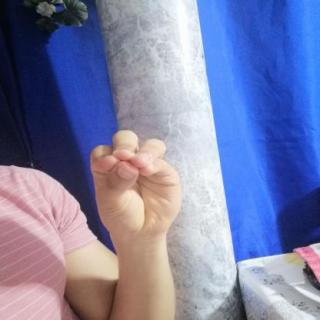HA: (76, 123, 196, 247)
